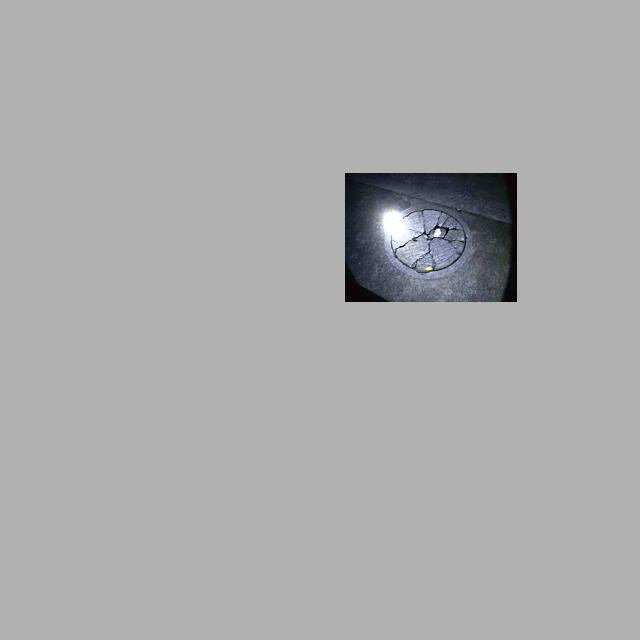broke: (380, 206, 474, 276)
